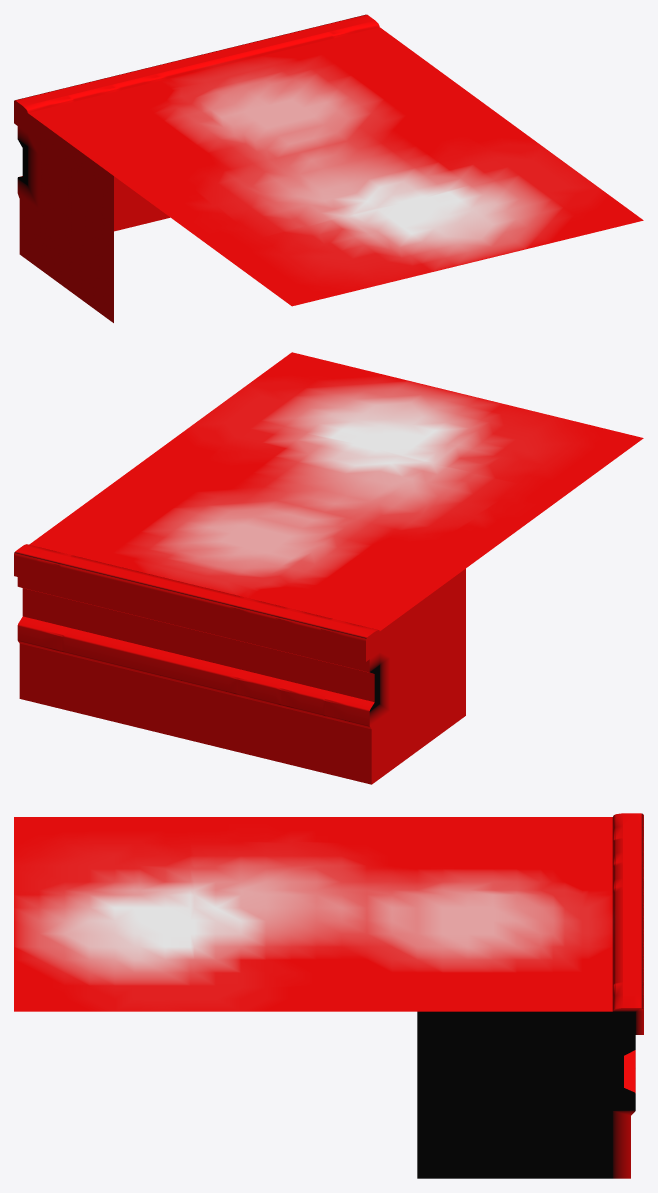
3 renders of one model, top to bottom at view 1: azimuth 30°, elevation 25°; view 2: azimuth 150°, elevation 25°; view 3: azimuth 270°, elevation 25°, orthographic. The views are drawn at different scales.
Parts seen in each view (by area): view 1: SM_Floor_Platform_02_LOD0; view 2: SM_Floor_Platform_02_LOD0; view 3: SM_Floor_Platform_02_LOD0.
Part boxes in pixels (bbox=[...]): SM_Floor_Platform_02_LOD0: bbox=[14, 14, 643, 322]; SM_Floor_Platform_02_LOD0: bbox=[14, 352, 643, 784]; SM_Floor_Platform_02_LOD0: bbox=[14, 813, 643, 1178].
Bounding box in the file's own units: 500 × 684 × 205.
